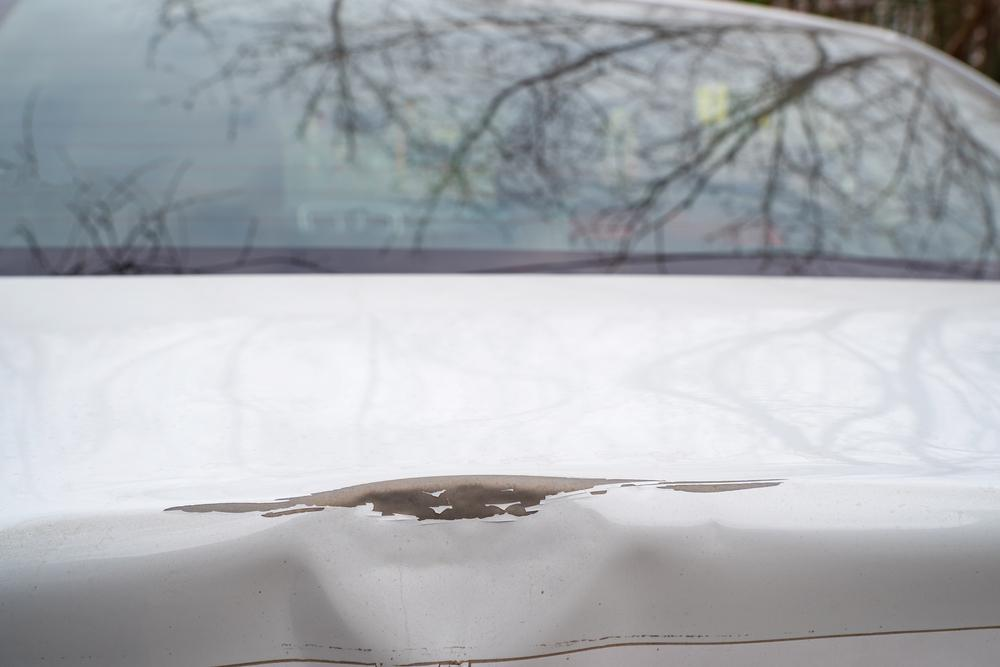dent: (287, 490, 607, 656)
scratch: (162, 469, 795, 520)
